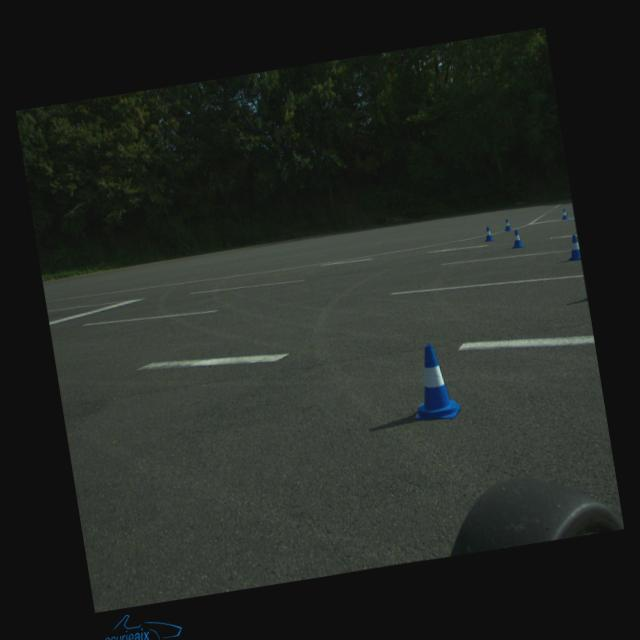blue_cone: (405, 342, 462, 424), (564, 234, 582, 262), (510, 229, 524, 249), (483, 226, 494, 242), (503, 218, 512, 232), (560, 208, 568, 220)
